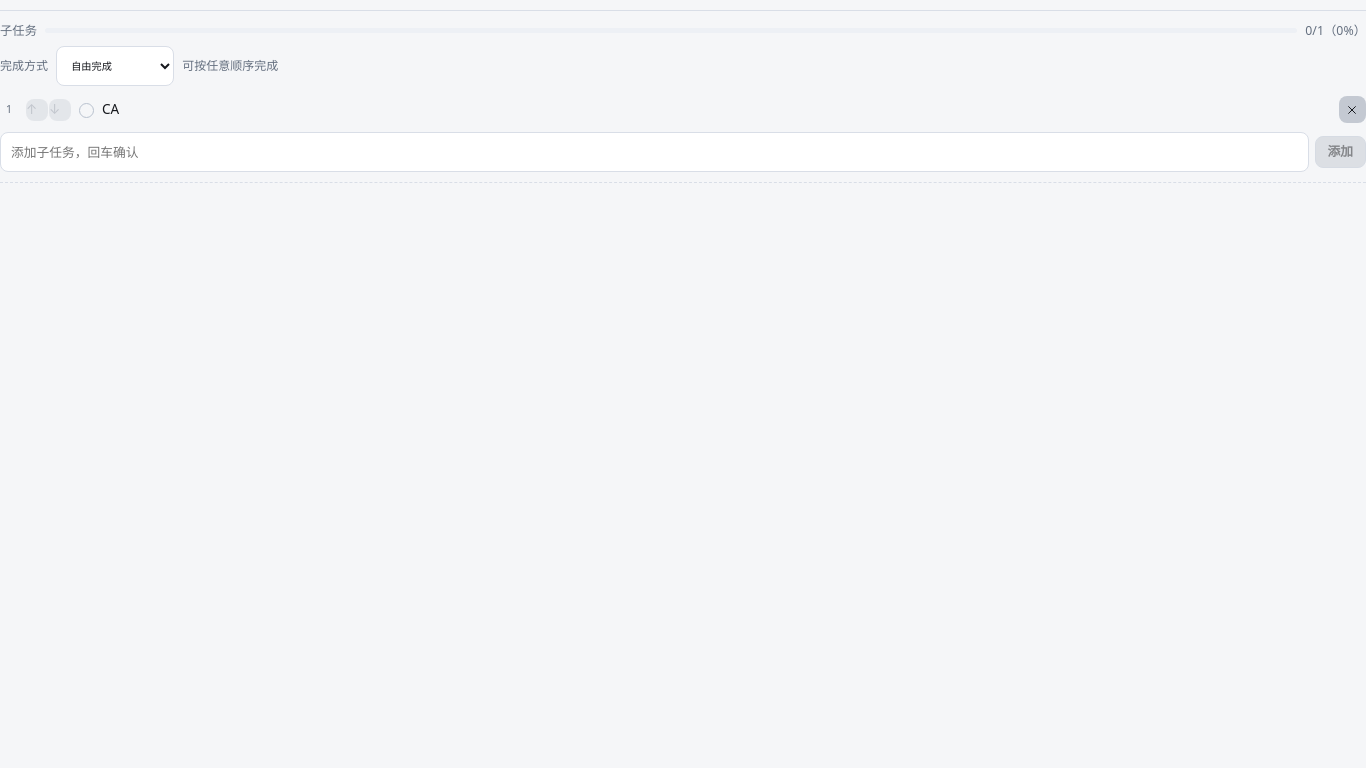
重复子任务删除同样要求范围，失败后保持对话框且显示错误
This screenshot has width=1366, height=768.
Click the button named "删除子任务「CA」".
click(1352, 110)  # box [1339, 96, 1365, 123]
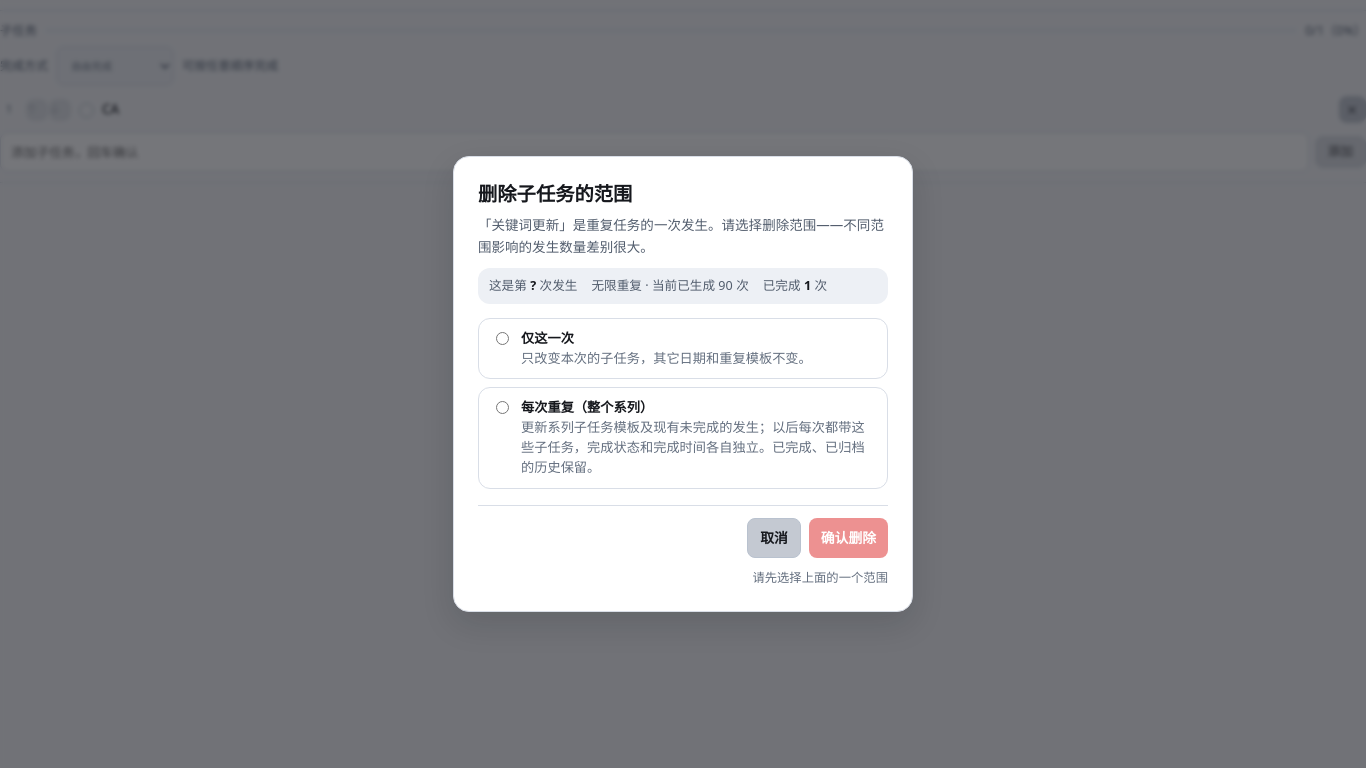
Click the 1st radio button.
click(502, 338)  # box [496, 332, 509, 345]
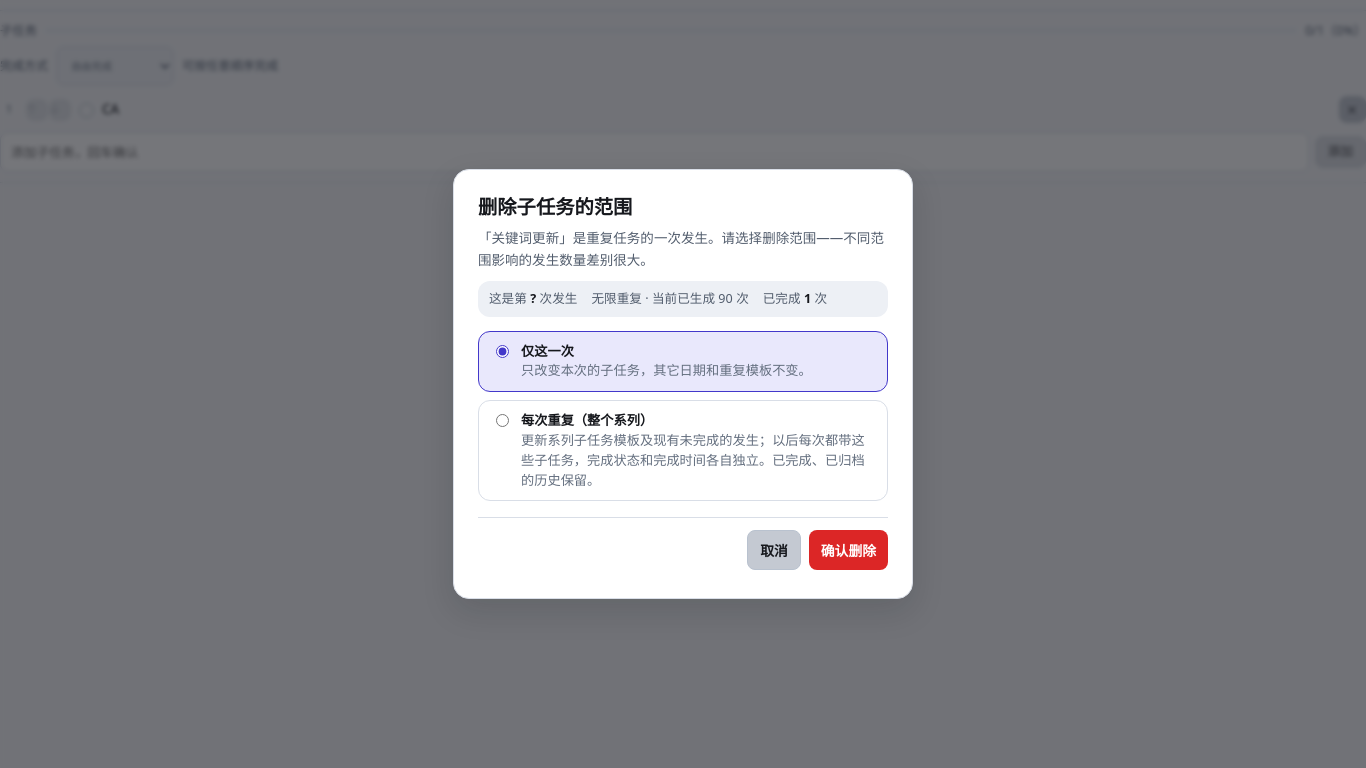
Check: the button "确认删除" is shown
Click the button "确认删除".
click(848, 550)  # box [809, 530, 888, 570]
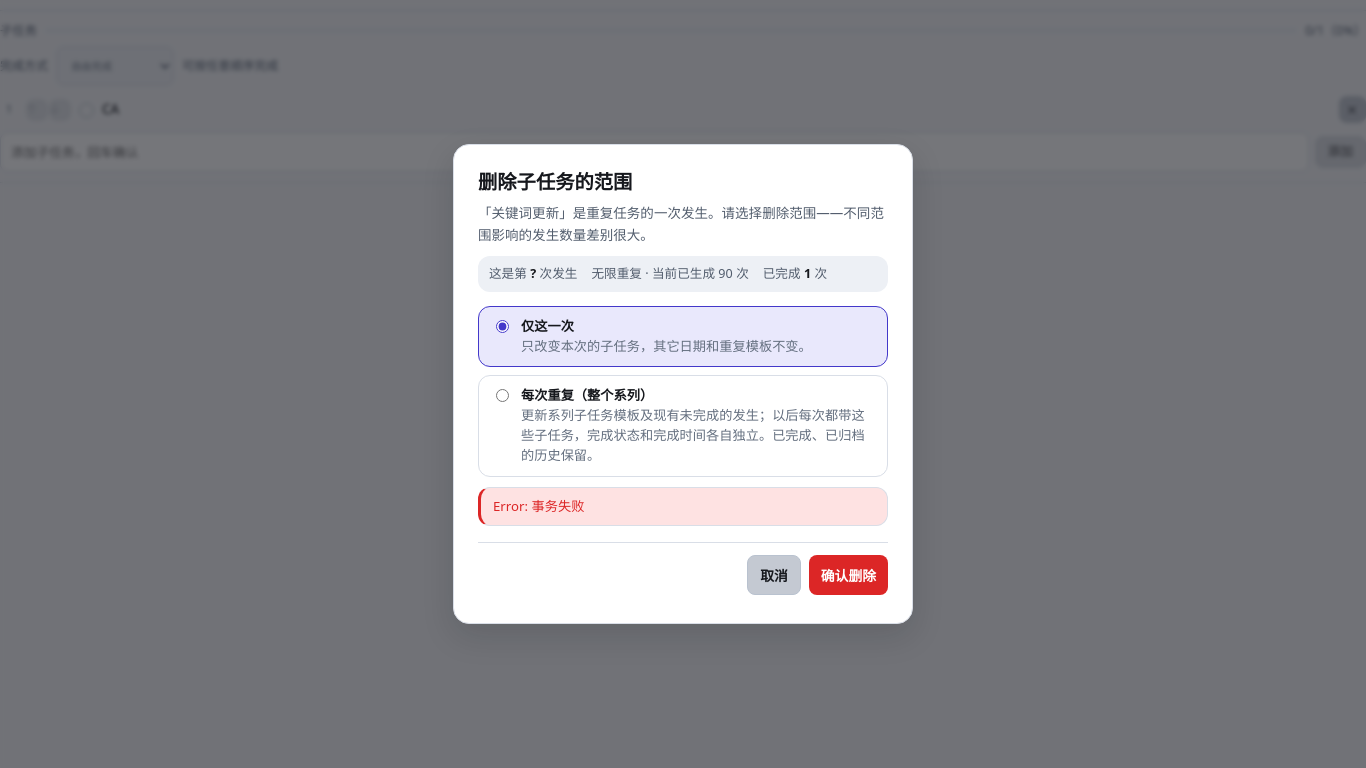
Check: the dialog is shown
Check: the text "事务失败" is shown, box [493, 496, 584, 514]
